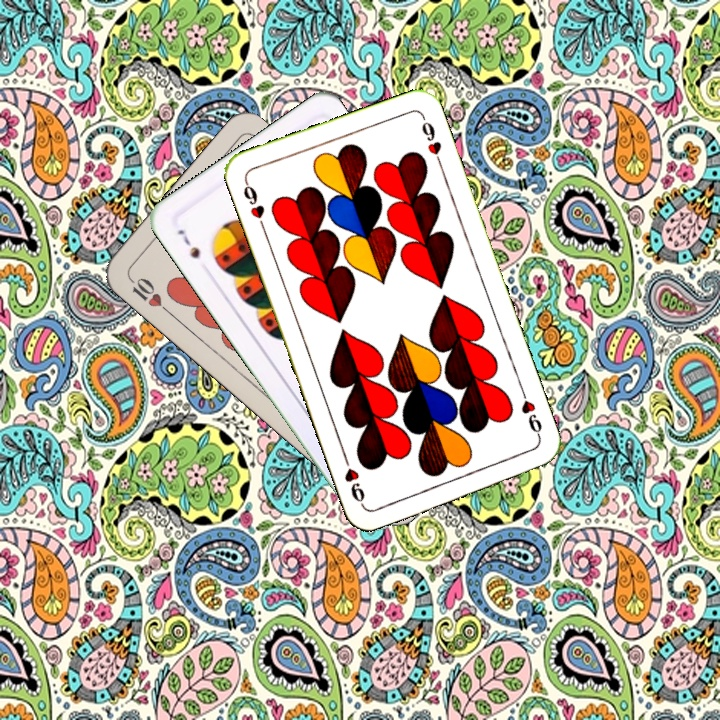H10: (125, 273, 174, 317)
H9: (239, 176, 268, 233), (517, 385, 545, 442)
S7: (173, 225, 203, 262)
